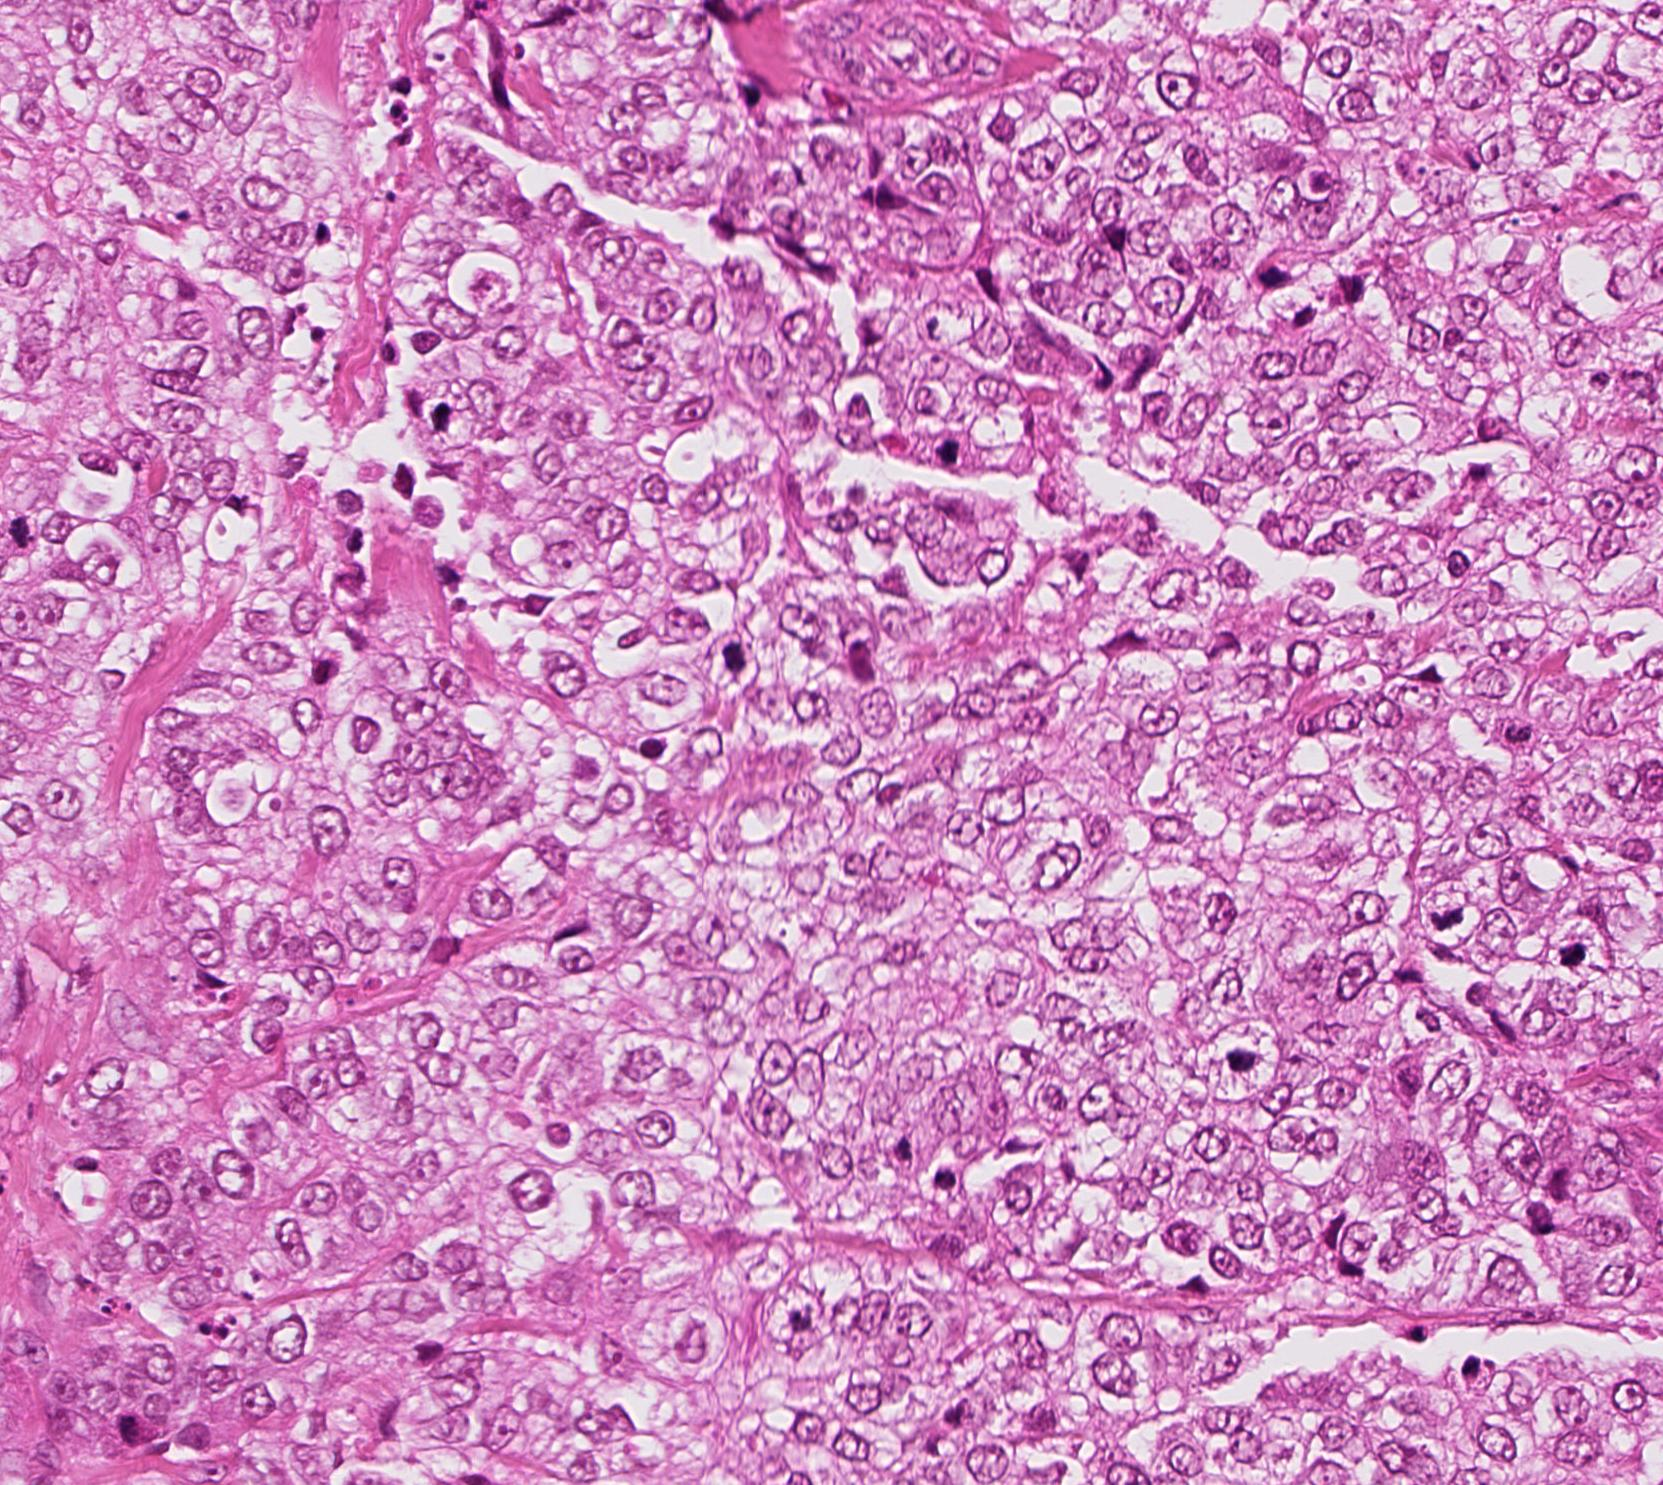mitosis: (1210, 1031, 1270, 1089)
